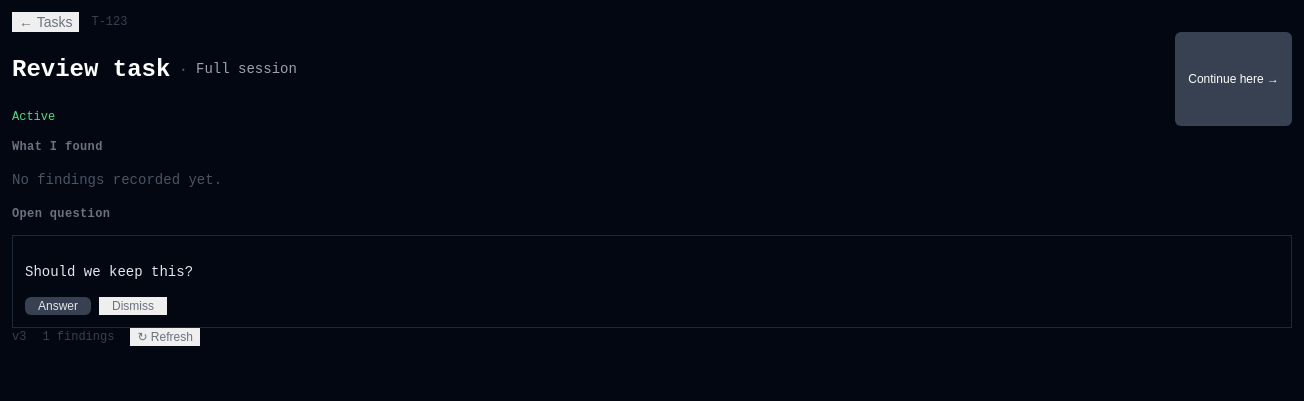
Test: TaskDetailTab answer and dismiss actions › shows an inline error near the question when dismiss save fails
Expected: the text "Should we keep this?" is shown, [25,264,193,280]
What coordinates should you click on to do the following:
click the button "Dismiss"
I would click on:
 (133, 306)
Its box is [99,297,167,315].
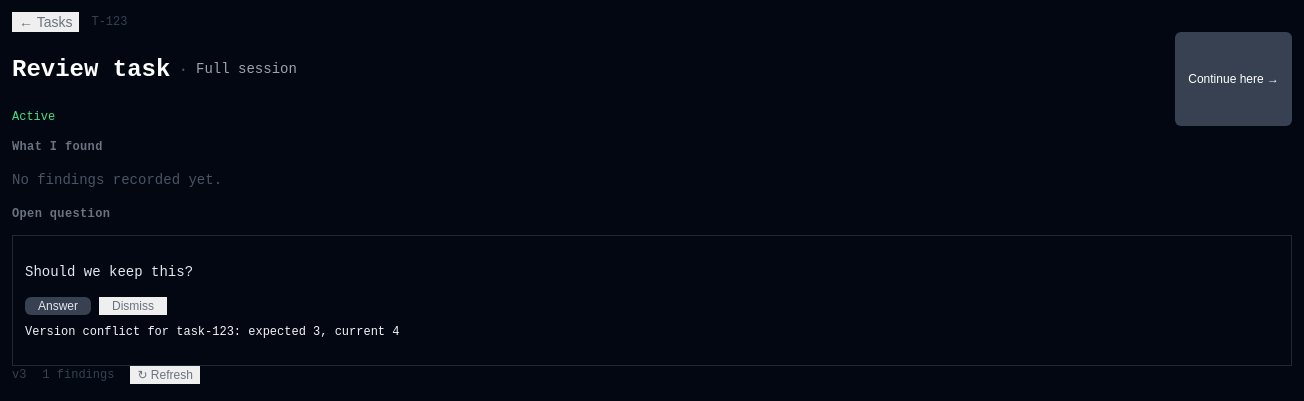
Expected: the message reads "Version conflict for task-123: expected 3, current 4", [25,325,400,339]
